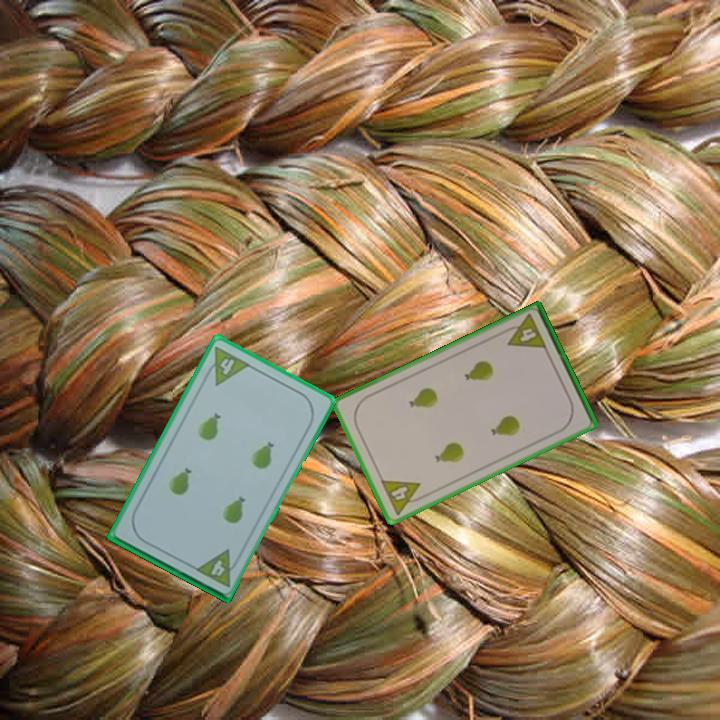4p: (200, 343, 253, 388), (192, 546, 243, 590), (377, 476, 429, 518), (499, 311, 550, 352)
